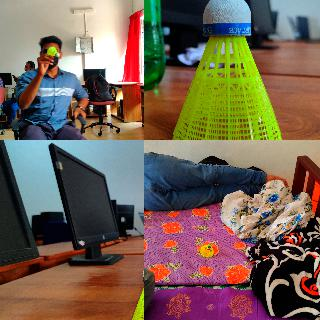shuttlecock: (170, 0, 283, 139), (128, 263, 143, 319), (200, 243, 214, 257), (46, 46, 60, 56)
